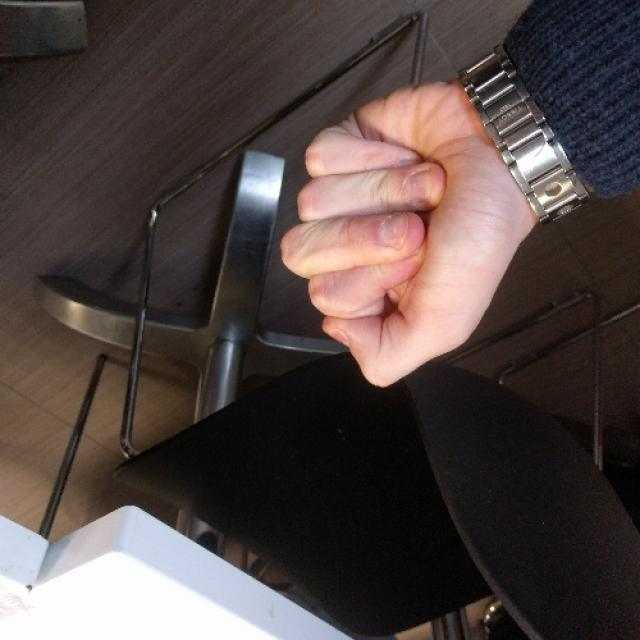fist: (283, 78, 545, 391)
